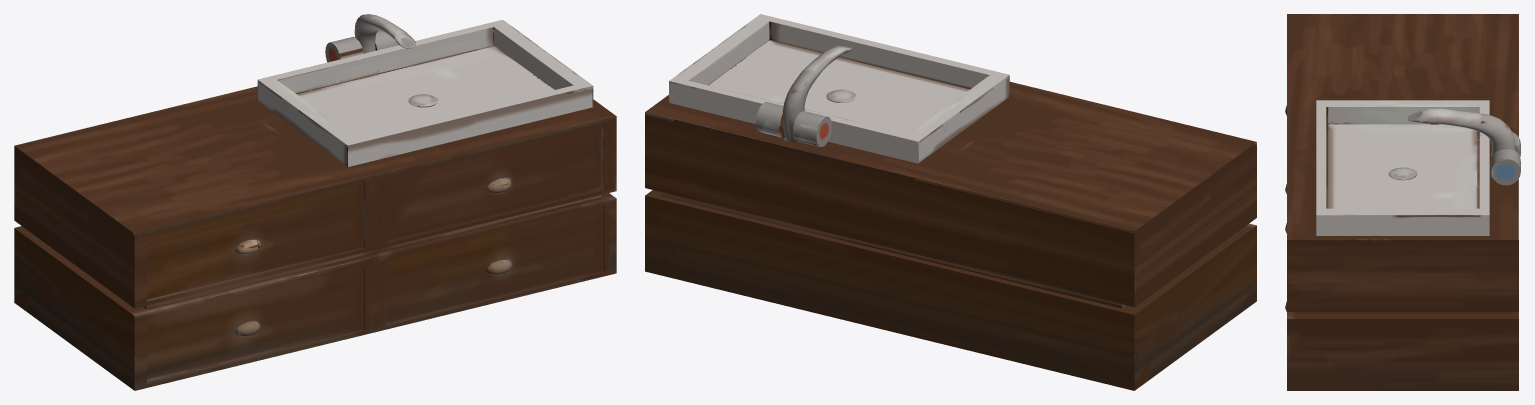
Rendered from lavabo.fbx.
The picture shows the model from 3 angles, left to right: view 1: azimuth 30°, elevation 25°; view 2: azimuth 150°, elevation 25°; view 3: azimuth 270°, elevation 25°; orthographic projection. The views are drawn at different scales.
Parts seen in each view (by area): view 1: cajon_arriba_1; view 2: cajon_arriba_1; view 3: cajon_arriba_1.
Part boxes in pixels (x1,y1,x2,y2): cajon_arriba_1: (14, 14, 616, 390); cajon_arriba_1: (645, 14, 1256, 390); cajon_arriba_1: (1285, 14, 1520, 390).
Size of the model in its own units: 1766 by 777 by 778.
1 material, 1 textured.
